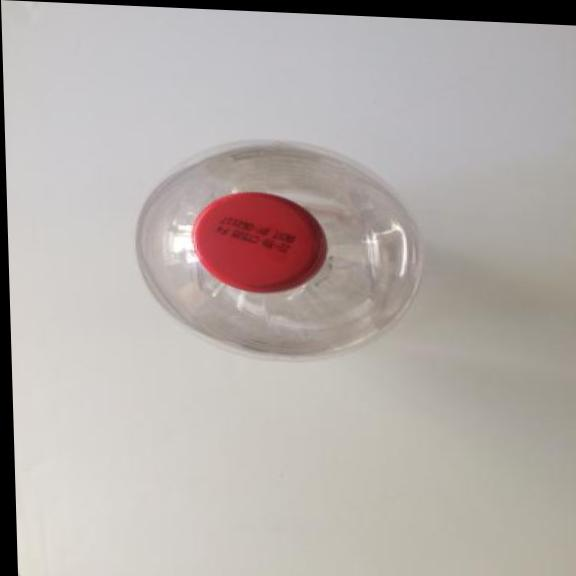Plastik: (130, 133, 440, 366)
